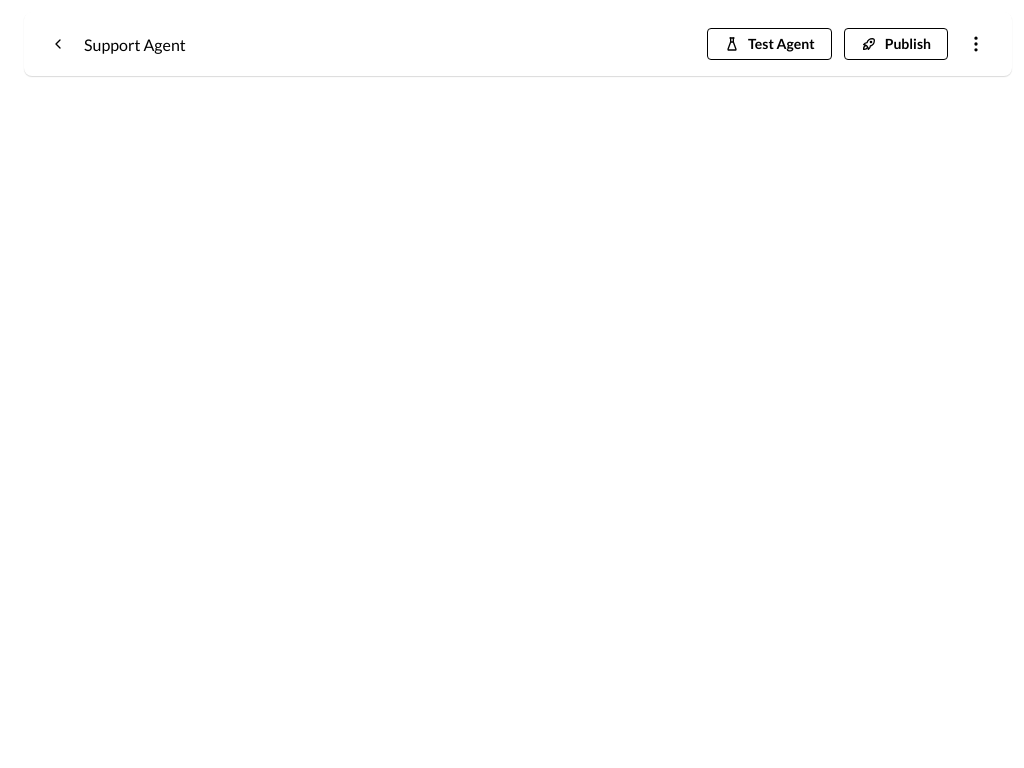
it: Agent edit page › renames the agent from the overflow menu, not from the heading
Expected: the heading "Support Agent" is shown, [84,34,186,54]
Click the button named "More agent actions": (976, 44) [960,28,992,60]
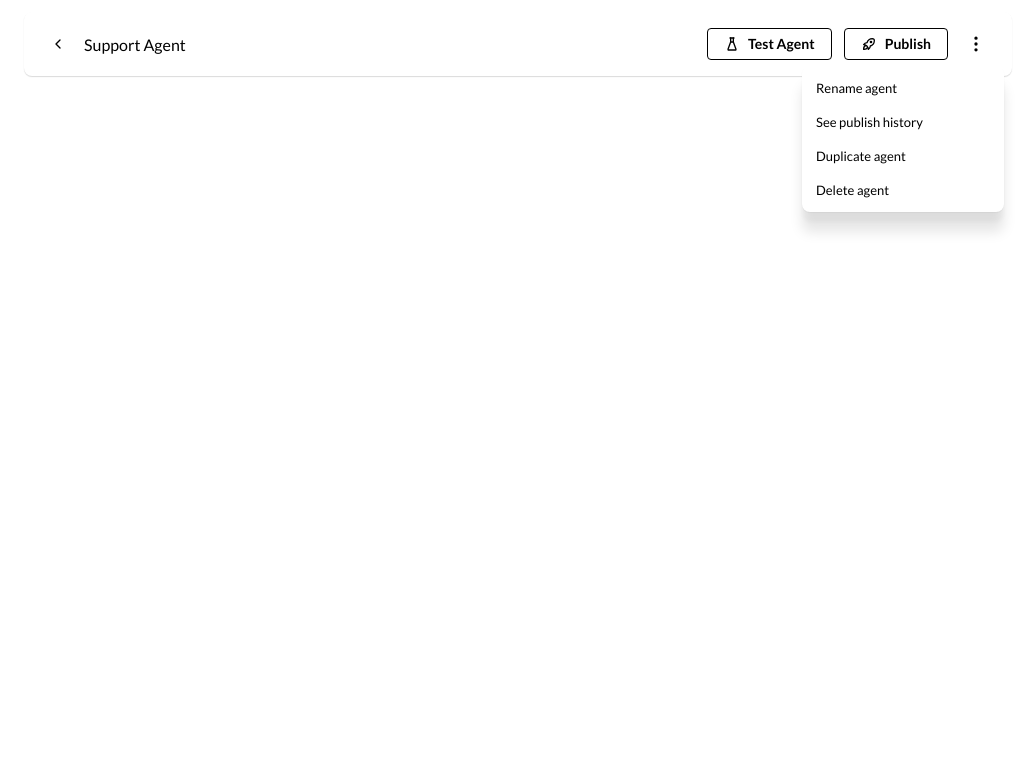
Click the menu item "Rename agent": (903, 88) [808,72,998,104]
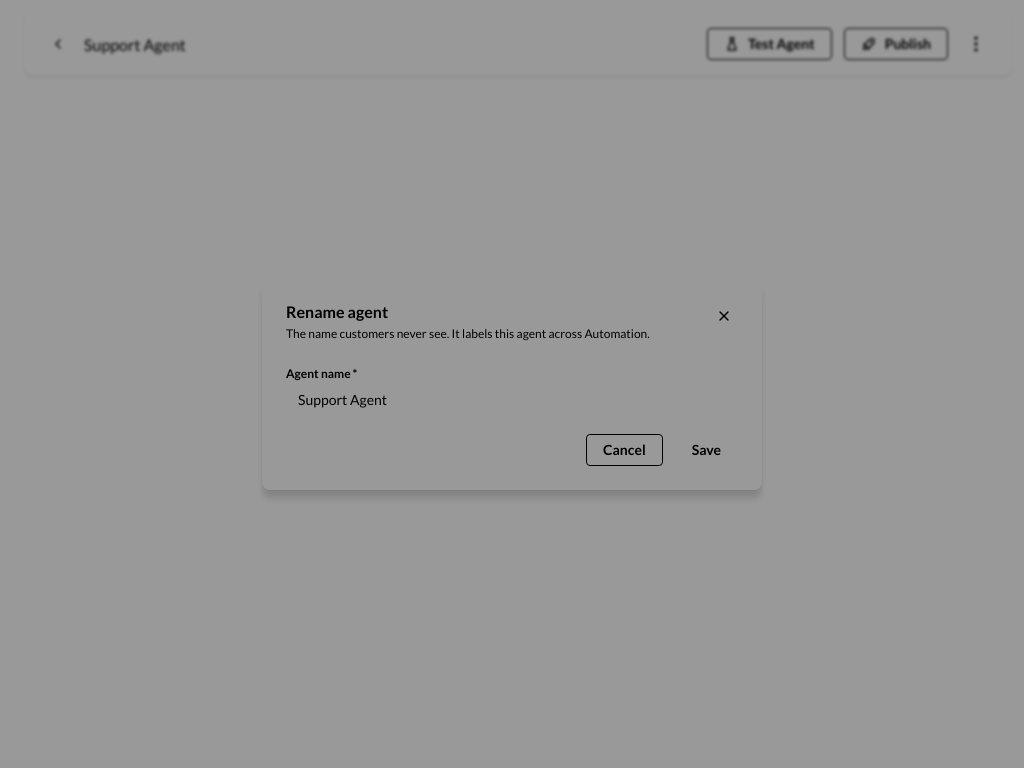
Replace the text in the field labelled "Agent name*" with "Post-purchase Agent": (512, 400) [286,390,738,410]
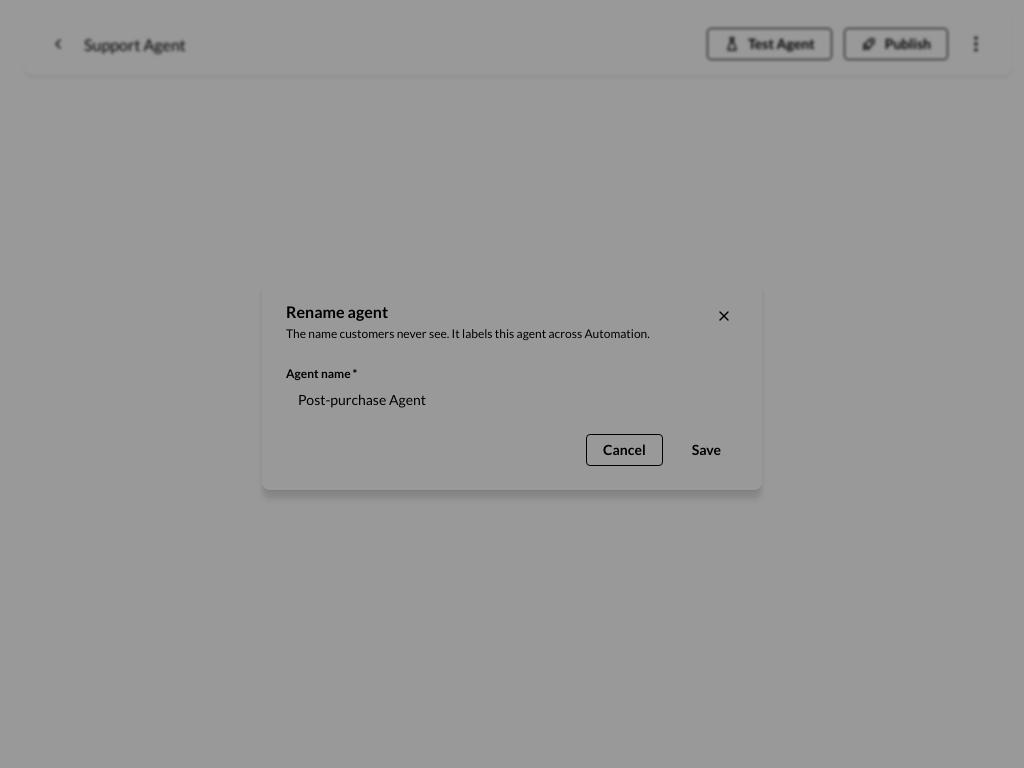
Click the button "Save": (706, 450) [675,434,738,466]
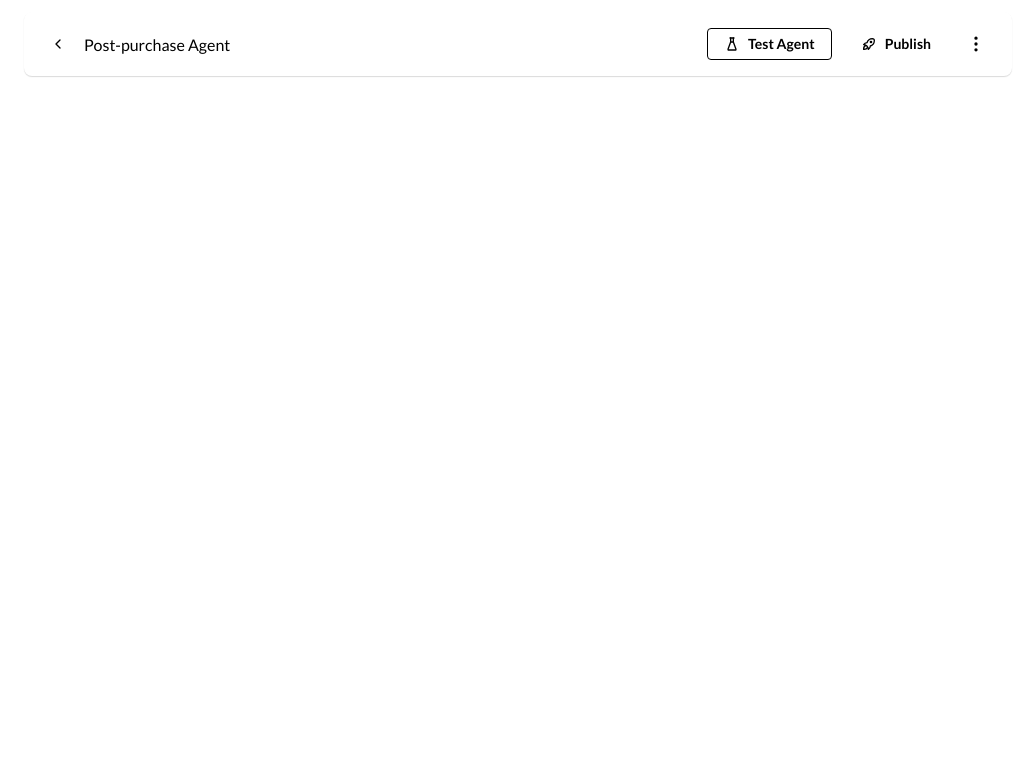
Expected: the heading "Post-purchase Agent" is shown, [84,34,230,54]
